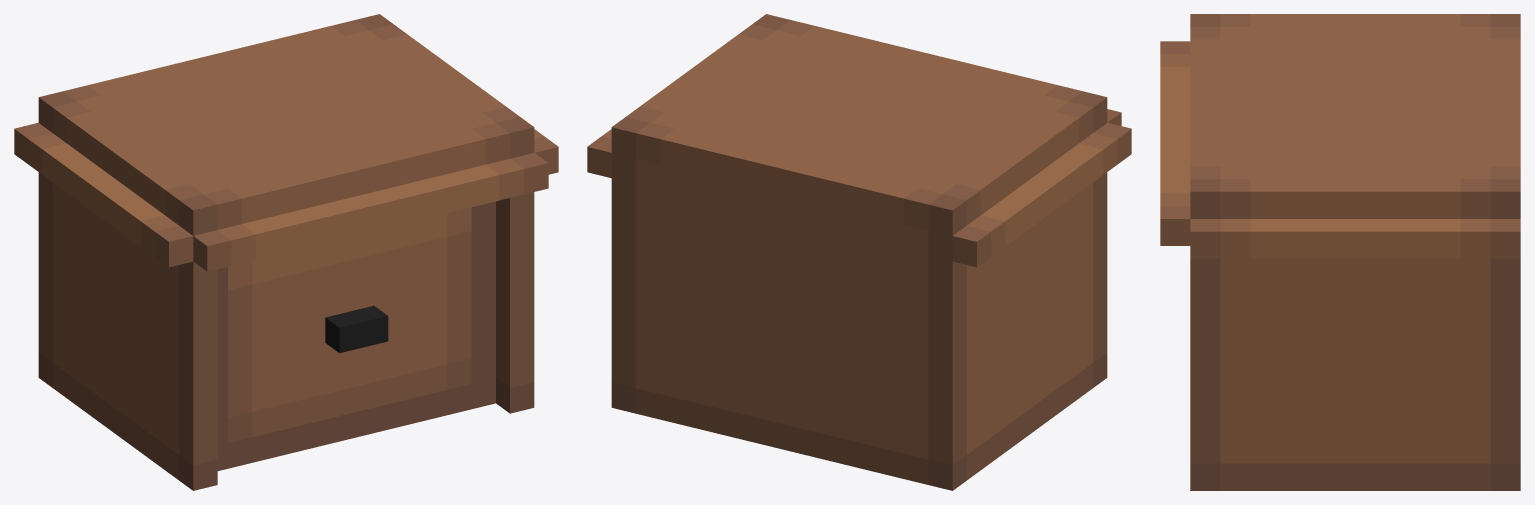
Rendered from Interior_Furniture-46.obj.
3 views of the same model, side by side, from view 1: azimuth 30°, elevation 25°; view 2: azimuth 150°, elevation 25°; view 3: azimuth 270°, elevation 25° (orthographic). The views are drawn at different scales.
Size of the model in its own units: 1.6 by 1.1 by 1.2.
Materials: 1 (1 with a texture image).
